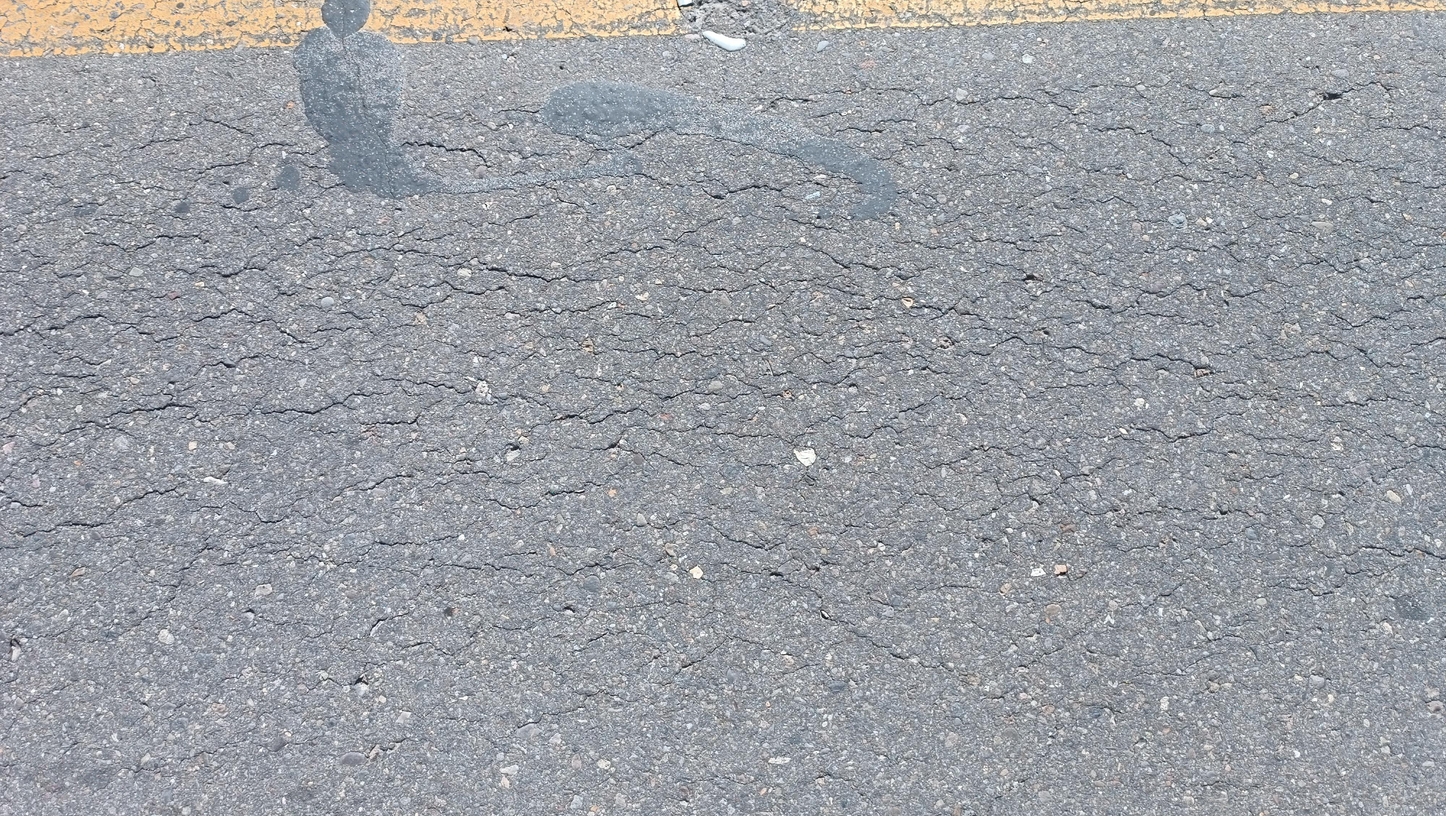PIEL DE COCODRILO: (0, 79, 1446, 726)
